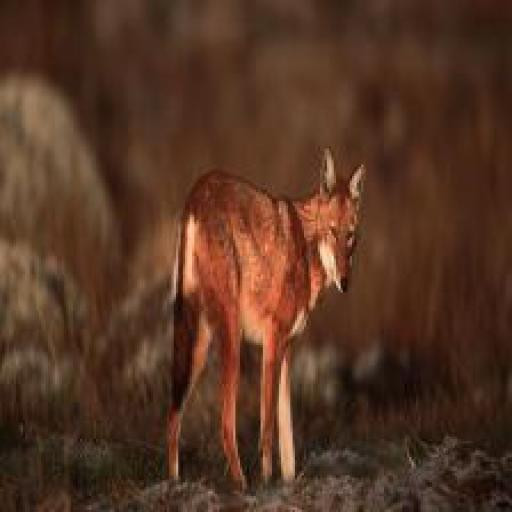wolf: (157, 116, 373, 512)
